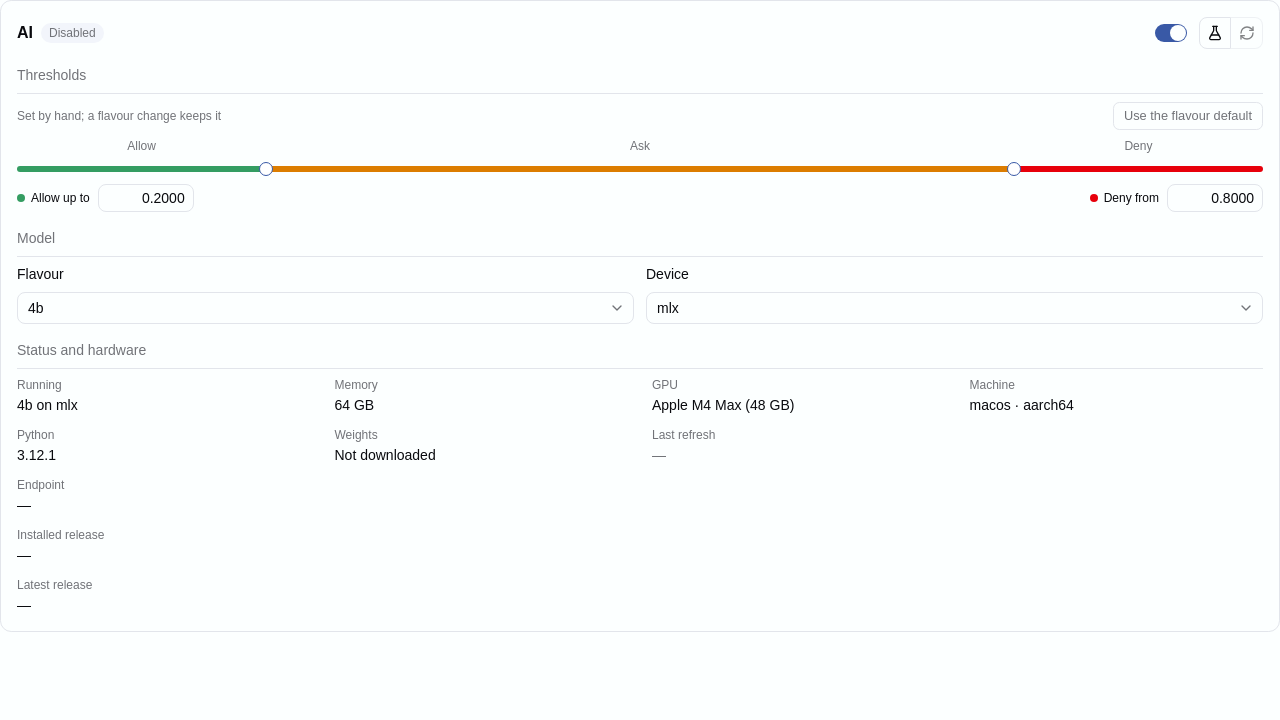
Test: draws no marker for an ai_error answer
Click the button named "Test a request" at [1215, 33], box [1199,17,1231,49]
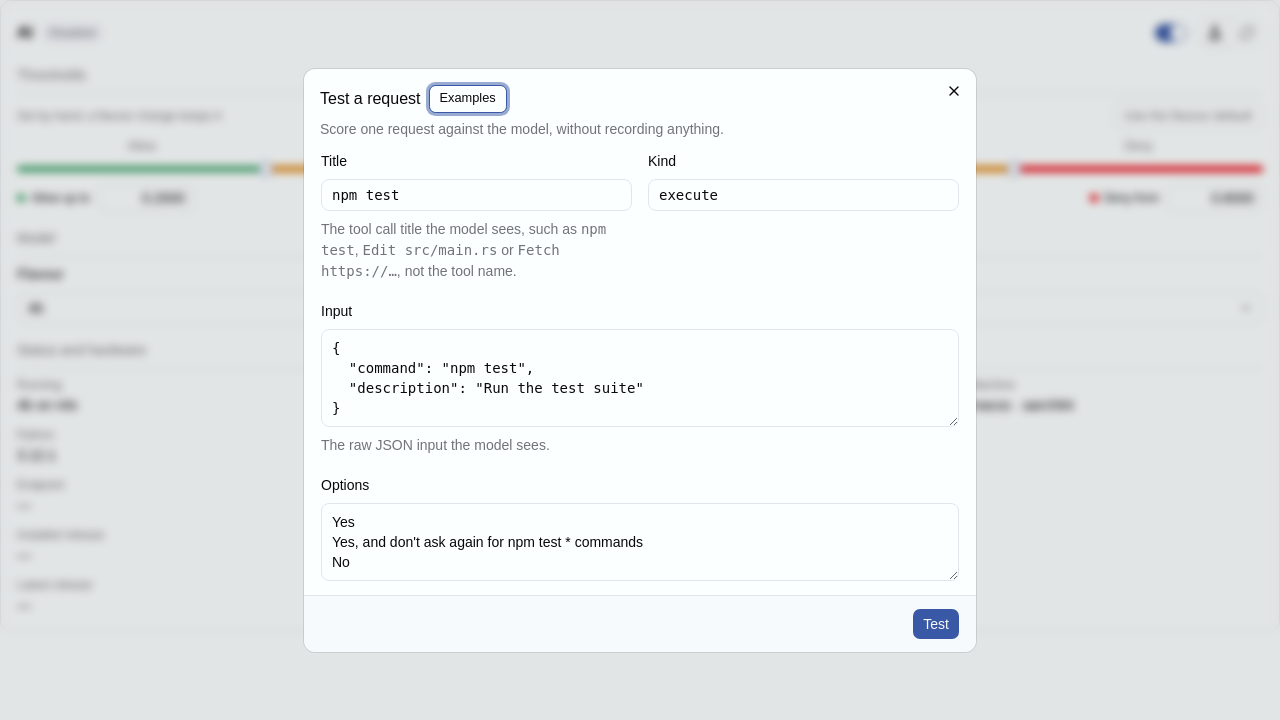
Click the button "Test" at [936, 624], box [912,608,960,640]
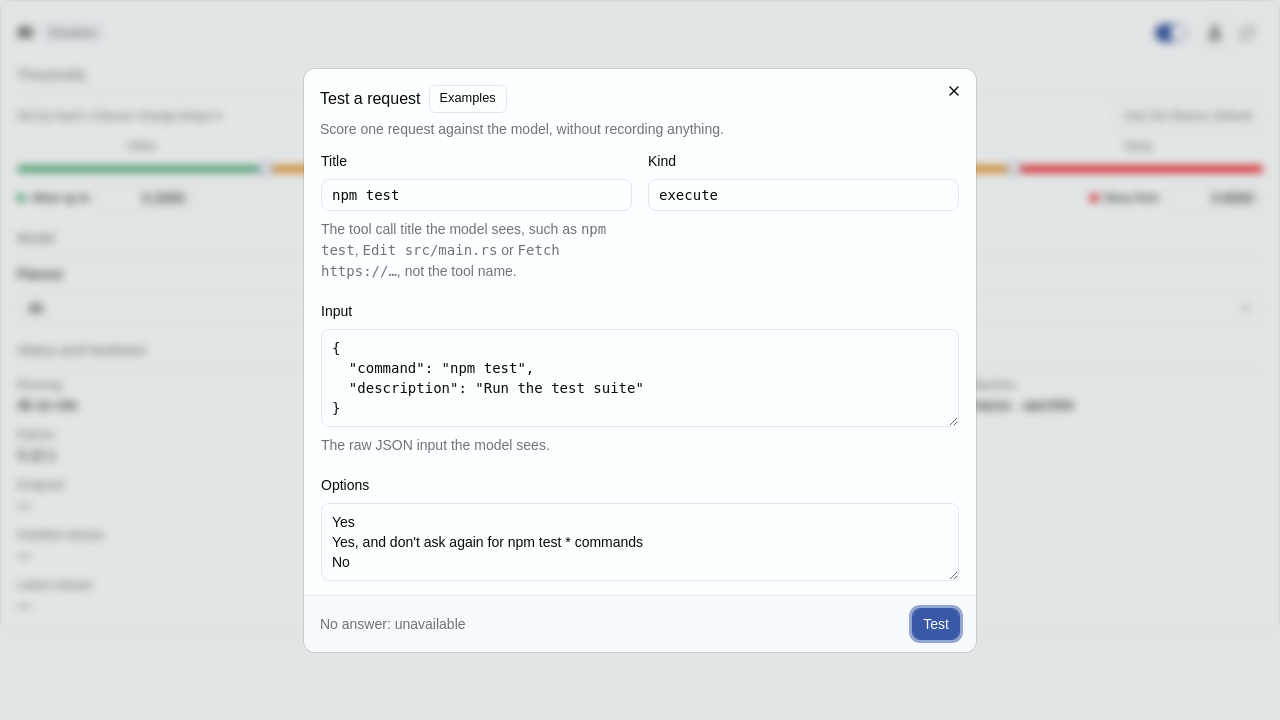
Expected: the text "No answer: unavailable" is shown, [320,616,466,632]
